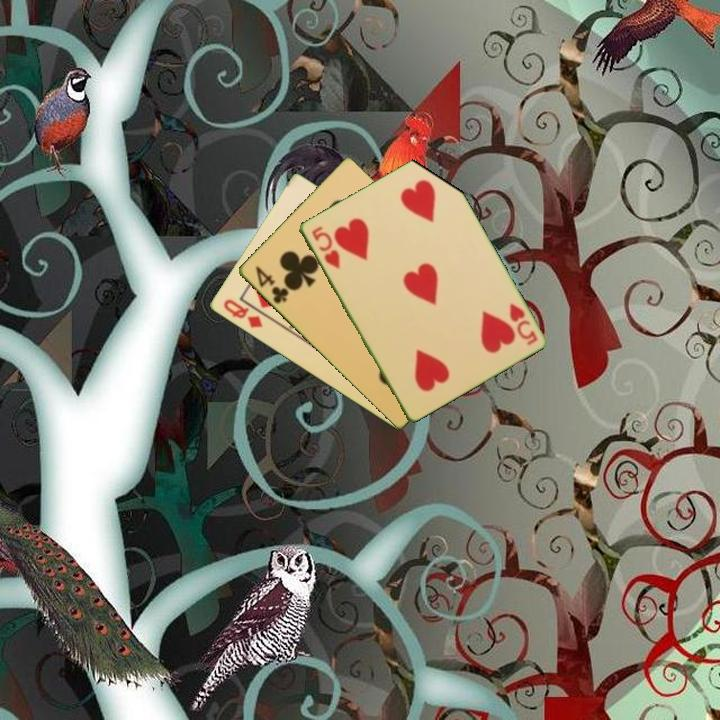4c: (251, 262, 291, 307)
5h: (308, 223, 343, 272), (505, 299, 540, 348)
Qd: (219, 295, 265, 331)
